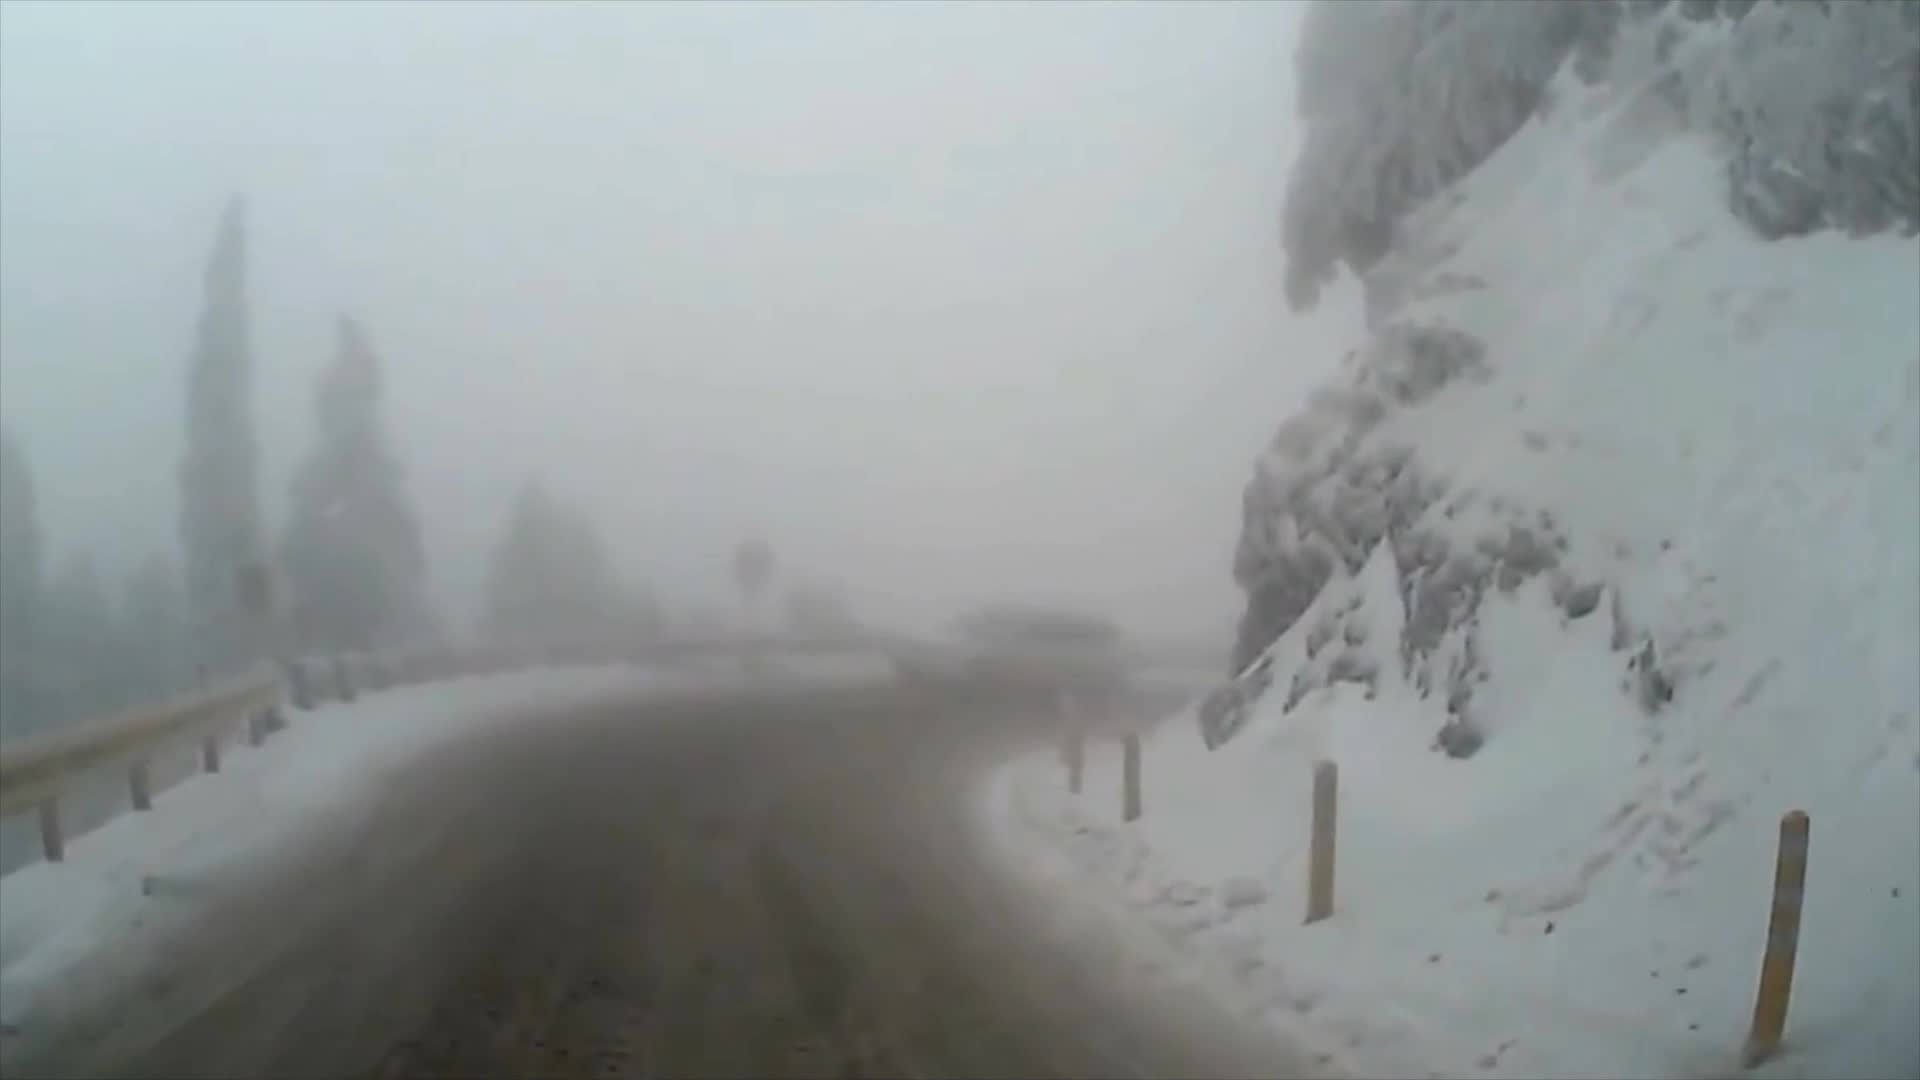vehicle: (884, 597, 1126, 715)
